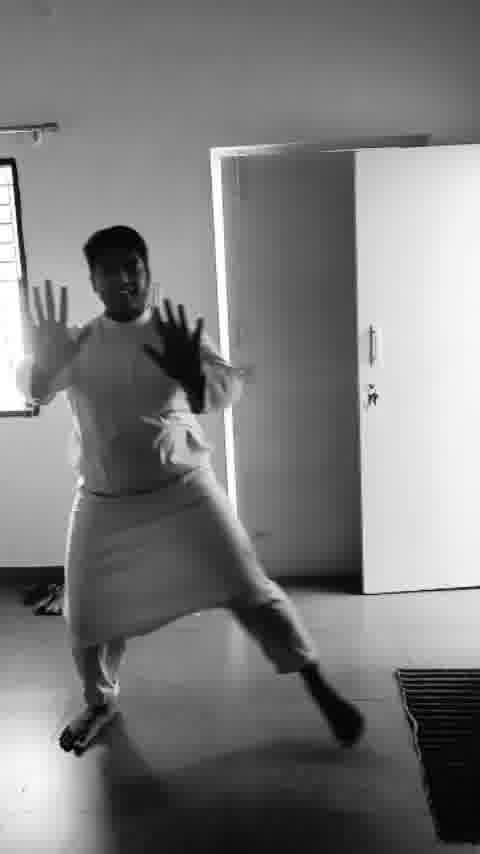duck: (13, 219, 383, 750)
